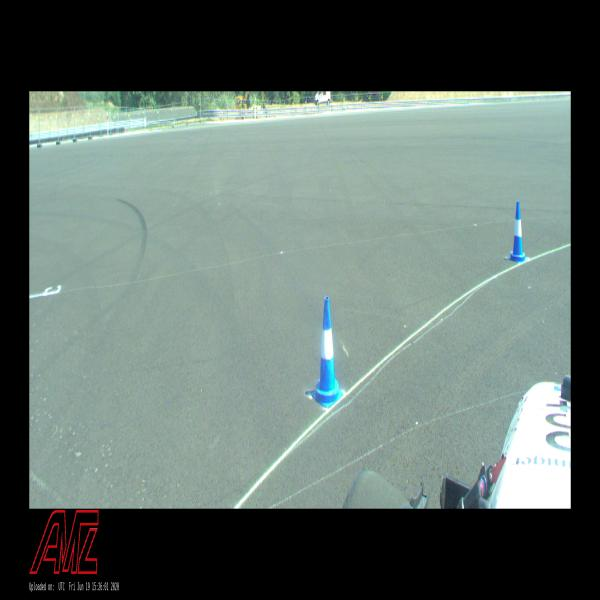blue_cone: (312, 297, 343, 409), (508, 202, 528, 264)
